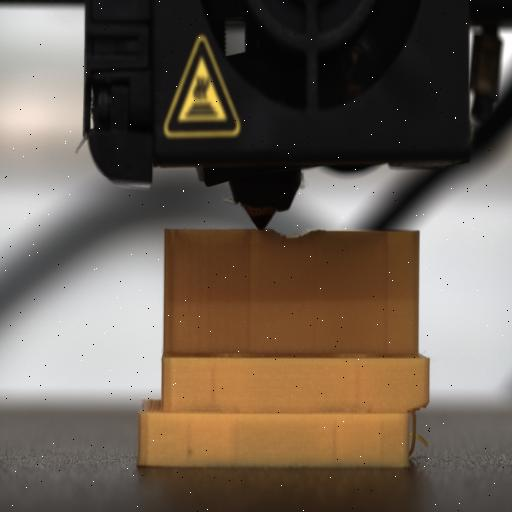layer_shift: (136, 397, 430, 421)
